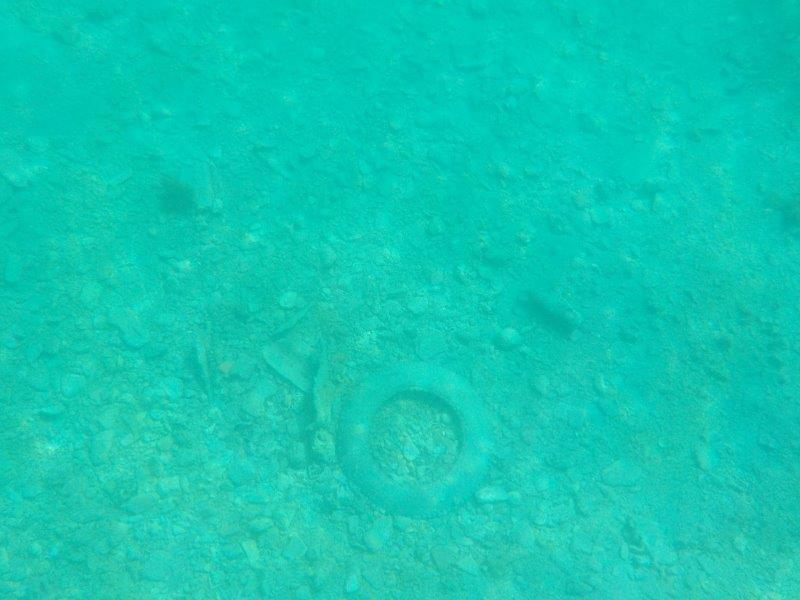bottle: (521, 284, 589, 335)
tire: (332, 361, 494, 521)
